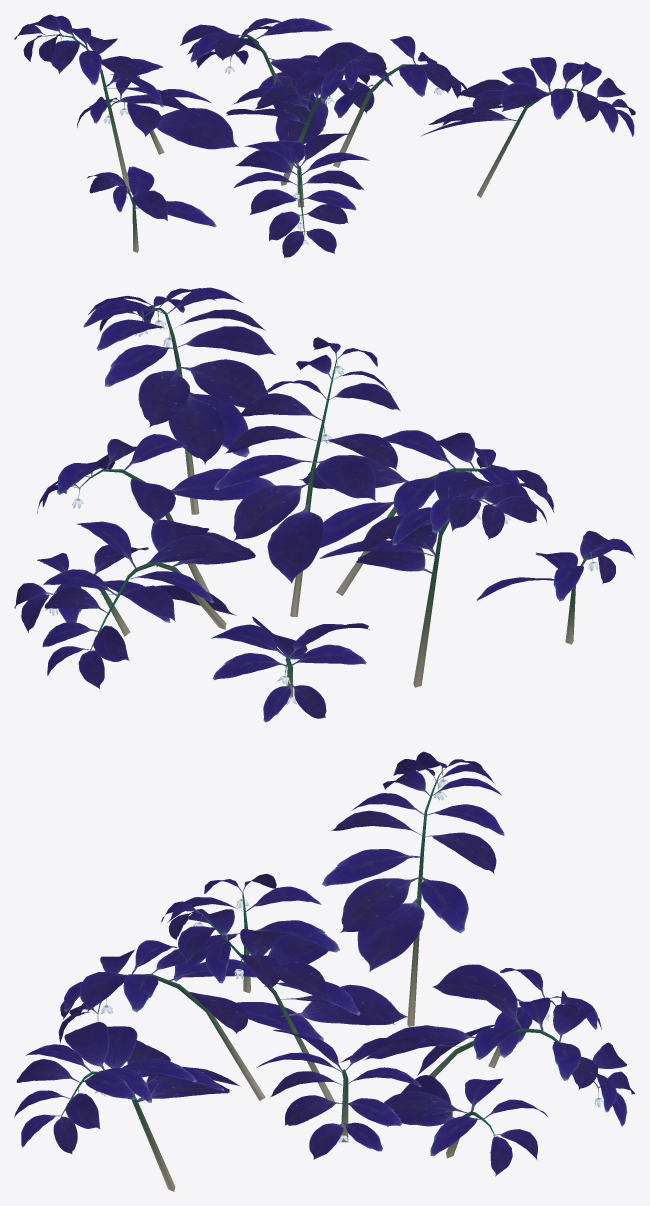
The picture shows the model from 3 angles, top to bottom: view 1: azimuth 30°, elevation 25°; view 2: azimuth 150°, elevation 25°; view 3: azimuth 270°, elevation 25°; orthographic projection. The views are drawn at different scales.
Parts seen in each view (by area): view 1: SM_FH_SolomonsSeal_01_LOD0; view 2: SM_FH_SolomonsSeal_01_LOD0; view 3: SM_FH_SolomonsSeal_01_LOD0.
Boxes of the visible parts, x1,y1,x2,y2 form: SM_FH_SolomonsSeal_01_LOD0: (14,14,635,257); SM_FH_SolomonsSeal_01_LOD0: (14,287,635,722); SM_FH_SolomonsSeal_01_LOD0: (14,751,634,1191).
Bounding box in the file's own units: 1.53 × 0.5423 × 1.36.
Materials: 1 (1 with a texture image).
